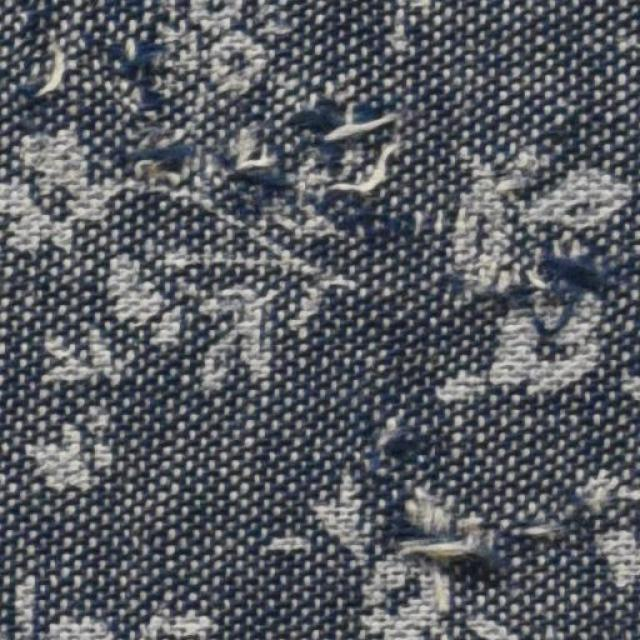Snag: (240, 83, 403, 216), (510, 199, 608, 333), (401, 487, 499, 572), (104, 15, 179, 112)
